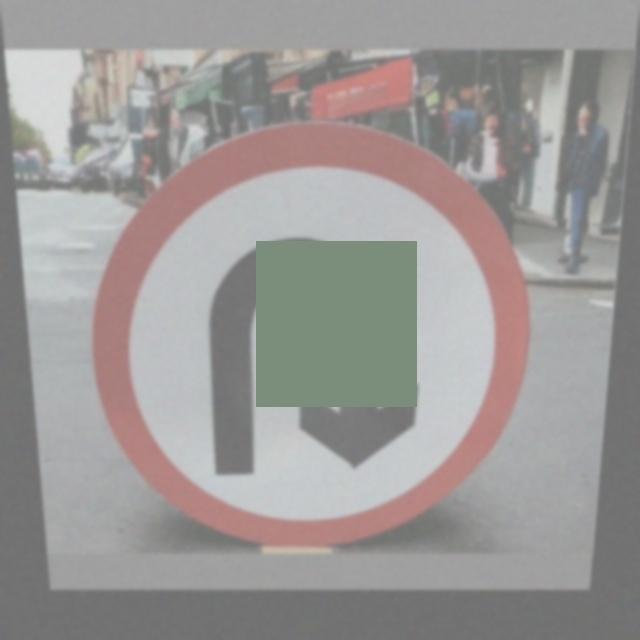U_Turn_Ahead: (135, 178, 510, 514)
